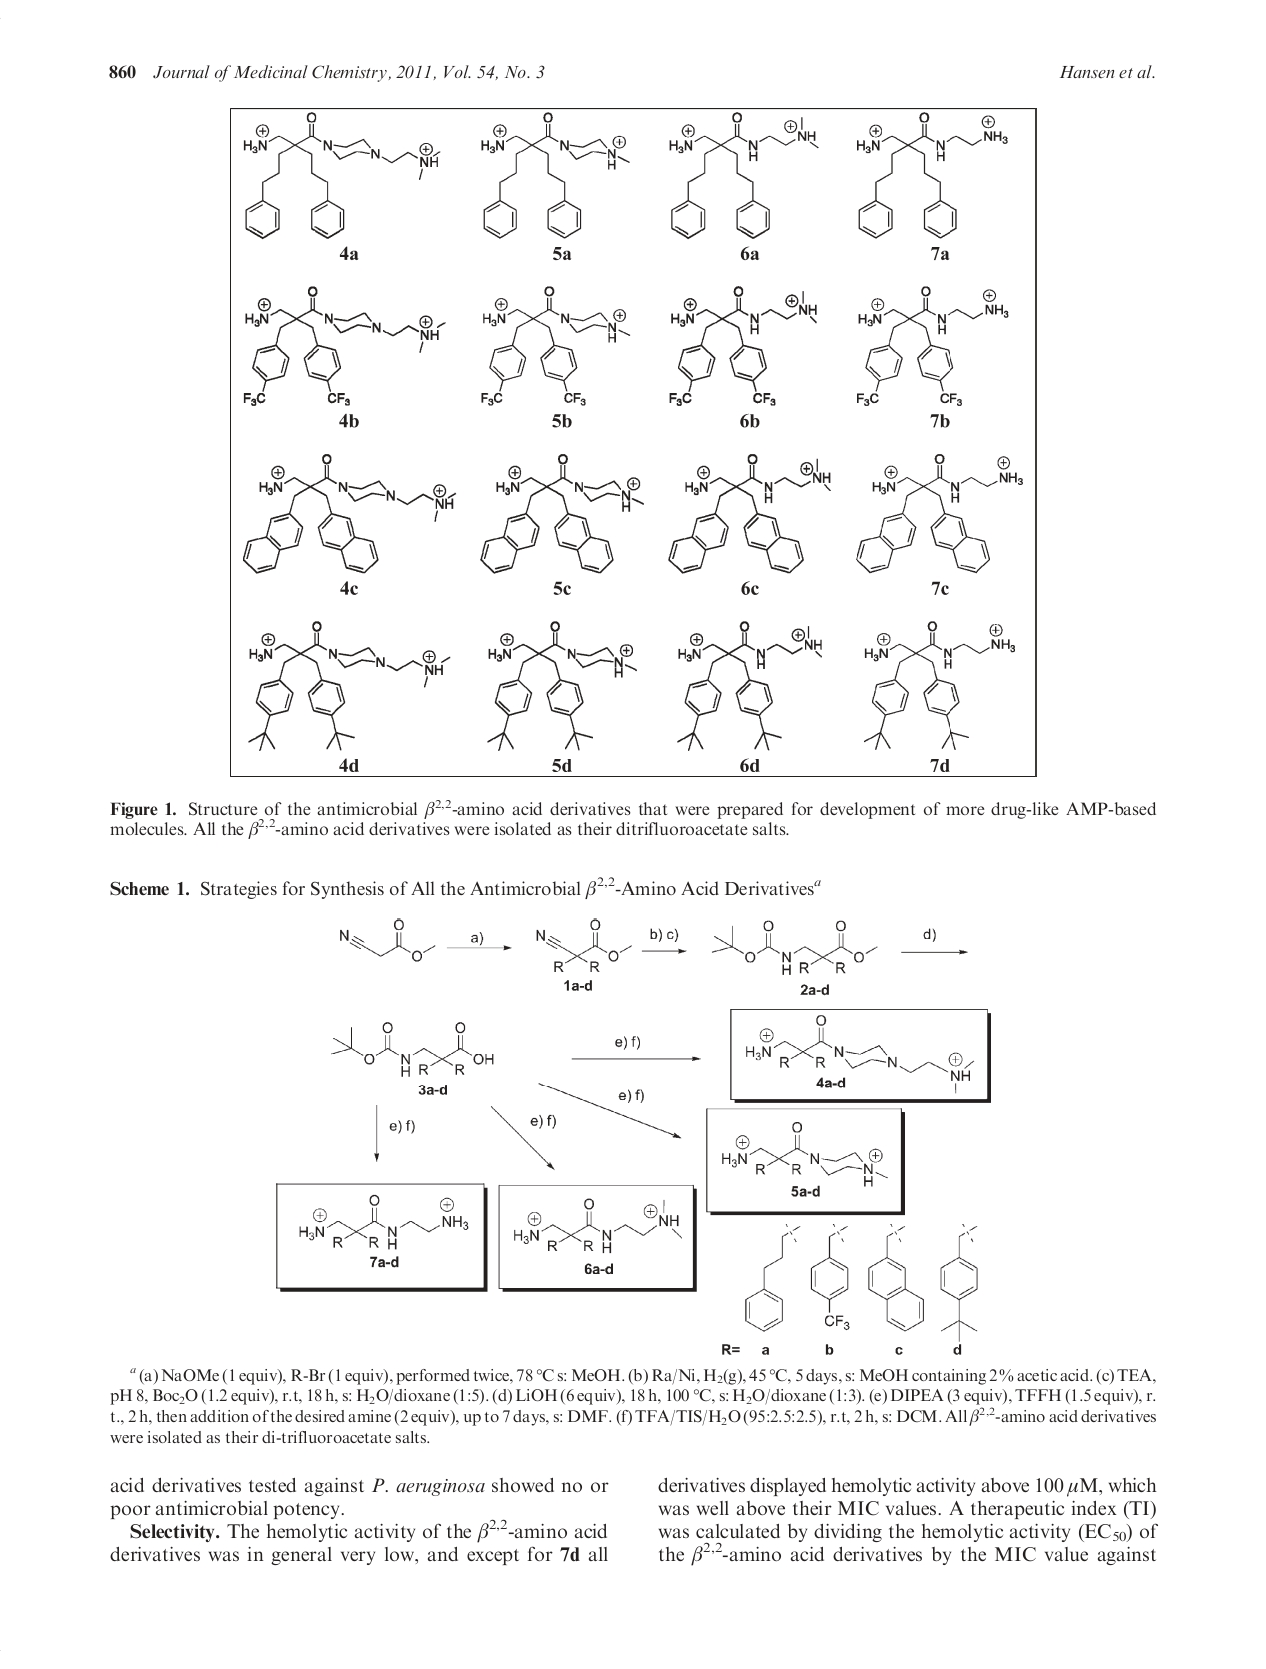exist_molecular: (246, 618, 453, 753), (241, 110, 442, 243), (239, 453, 457, 575), (239, 282, 448, 406), (852, 449, 1027, 576), (858, 616, 1019, 751), (477, 451, 648, 576), (664, 451, 834, 575), (476, 110, 634, 242), (485, 618, 640, 753), (852, 110, 1009, 242), (673, 618, 824, 753), (852, 282, 1011, 410), (665, 112, 821, 241), (666, 285, 819, 411), (477, 283, 632, 408), (742, 1013, 977, 1094), (719, 1117, 890, 1188), (293, 1190, 475, 1253), (703, 916, 882, 977), (326, 1015, 500, 1077), (512, 1196, 686, 1255), (739, 1220, 803, 1334), (864, 1221, 930, 1333), (529, 914, 636, 973), (936, 1220, 984, 1342), (807, 1218, 856, 1337), (336, 915, 439, 965)
